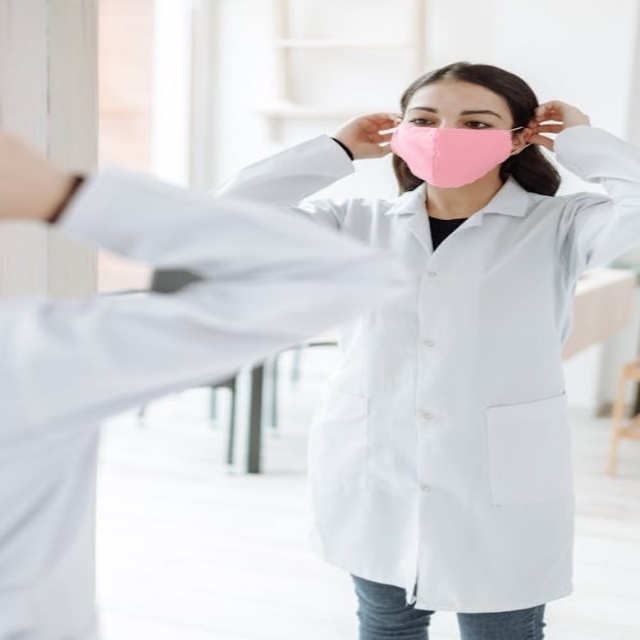Mascara: (389, 124, 519, 188)
Sin_gafas: (404, 105, 507, 125)
Sin_guantes: (522, 97, 589, 141), (339, 111, 401, 158)
